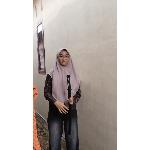Pedang: (63, 74, 73, 138)
